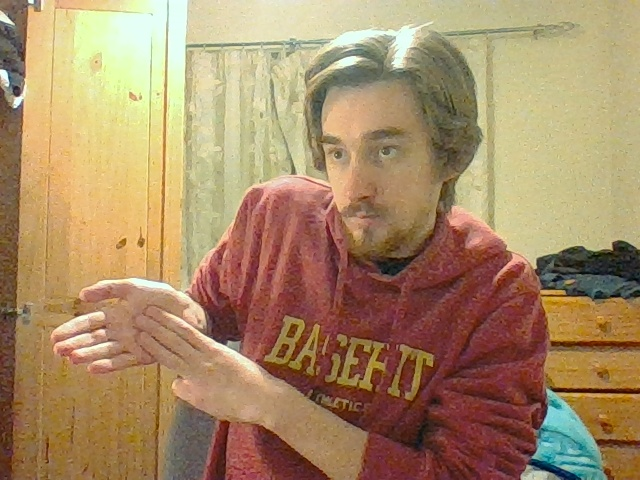mother: (51, 277, 197, 374)
